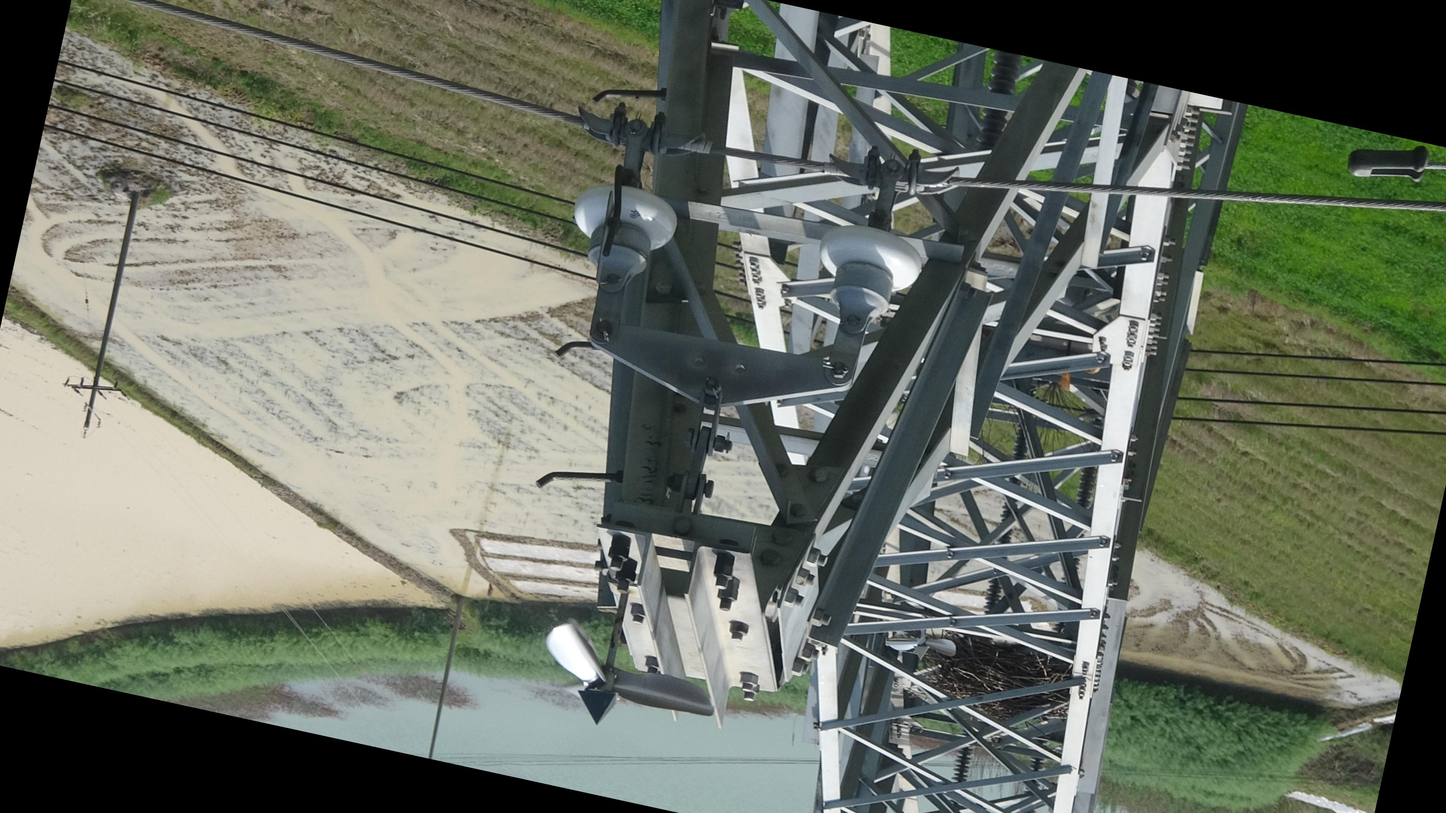damper: (1332, 106, 1446, 257), (0, 0, 209, 29)
